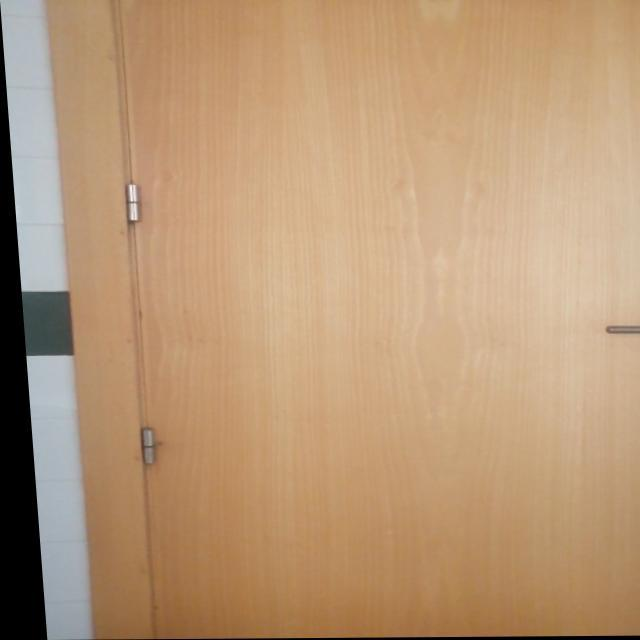door_handle: (591, 322, 640, 337)
